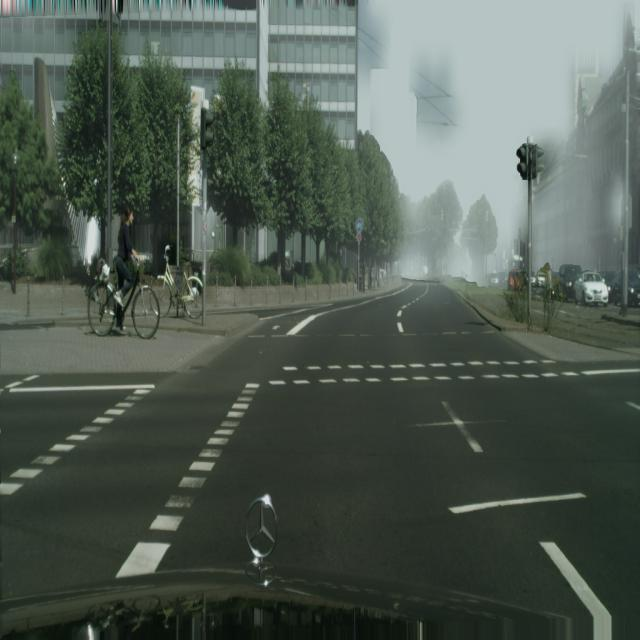car: (87, 203, 159, 338), (151, 244, 203, 322)
truck: (606, 268, 640, 308), (574, 269, 609, 307), (558, 262, 583, 302), (508, 270, 526, 291)
